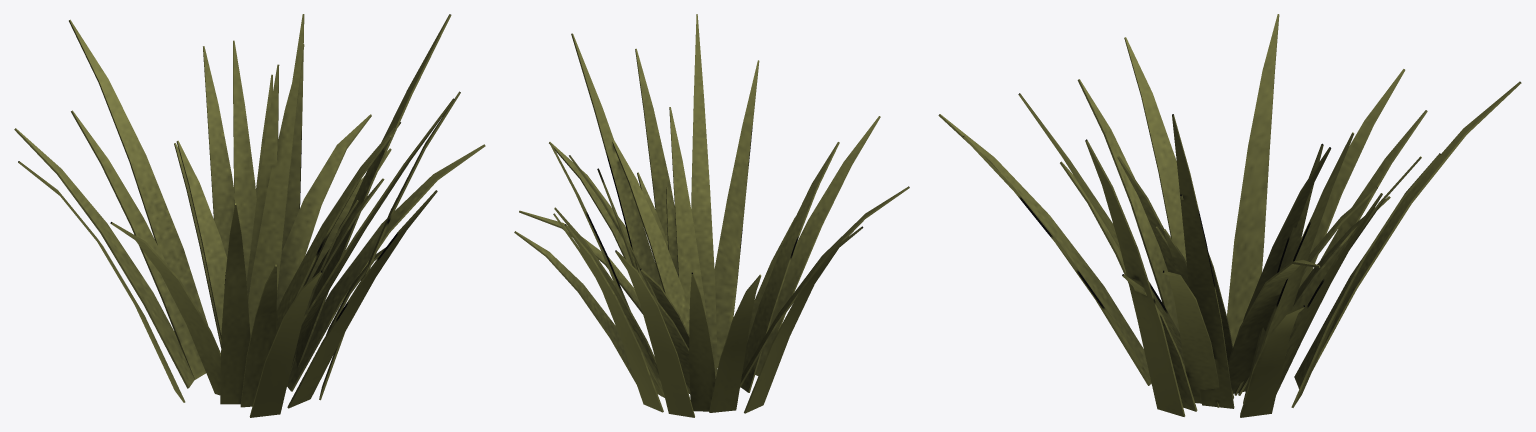
Rendered from costa_capim_c.glb.
3 renders of one model, left to right at view 1: azimuth 30°, elevation 25°; view 2: azimuth 150°, elevation 25°; view 3: azimuth 270°, elevation 25°, orthographic. The views are drawn at different scales.
Parts seen in each view (by area): view 1: costa_capim_c; view 2: costa_capim_c; view 3: costa_capim_c.
Boxes of the visible parts, x1,y1,x2,y2 form: costa_capim_c: (14,14,485,417); costa_capim_c: (514,14,909,417); costa_capim_c: (938,14,1521,417).
Bounding box in the file's own units: 0.7289 × 0.5857 × 0.8477.
Materials: 1 (1 with a texture image).
